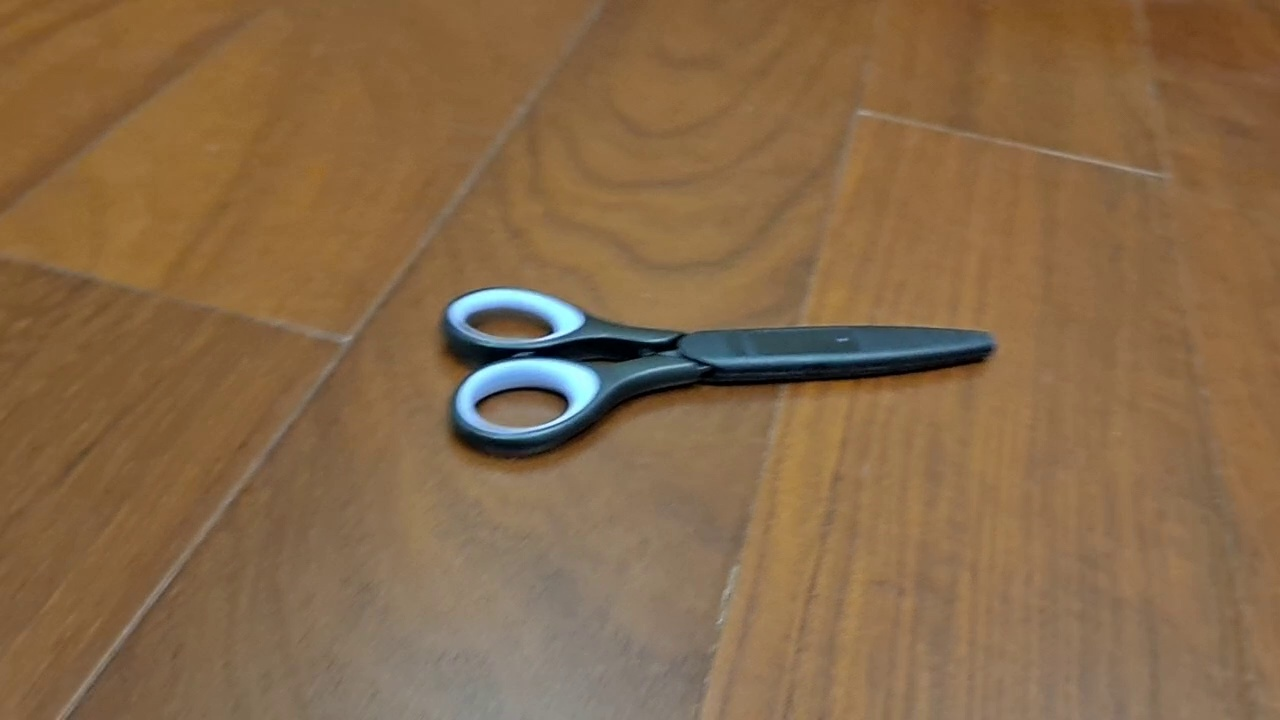scissors: (438, 283, 998, 460)
